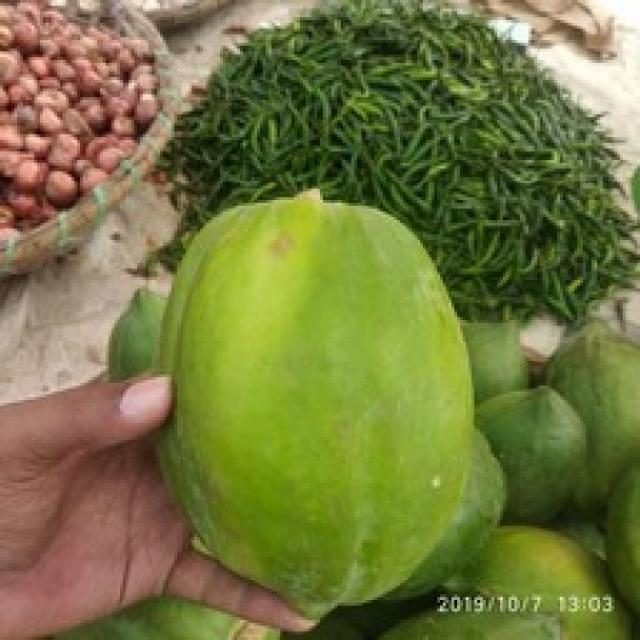Pepaya unrippen: (151, 178, 479, 610)
